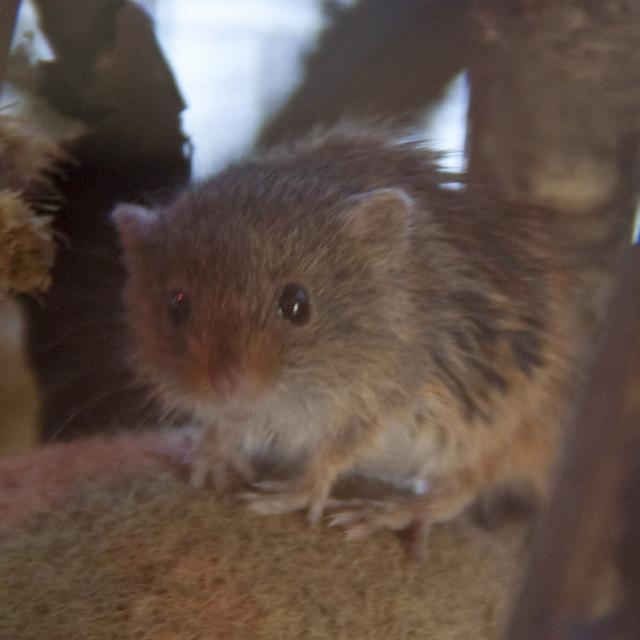rat: (50, 123, 582, 556)
